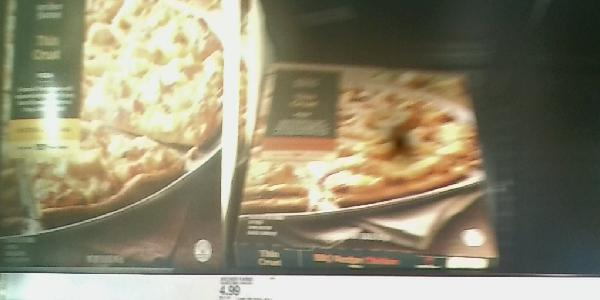pizza1: (1, 1, 230, 270), (236, 56, 502, 272)
